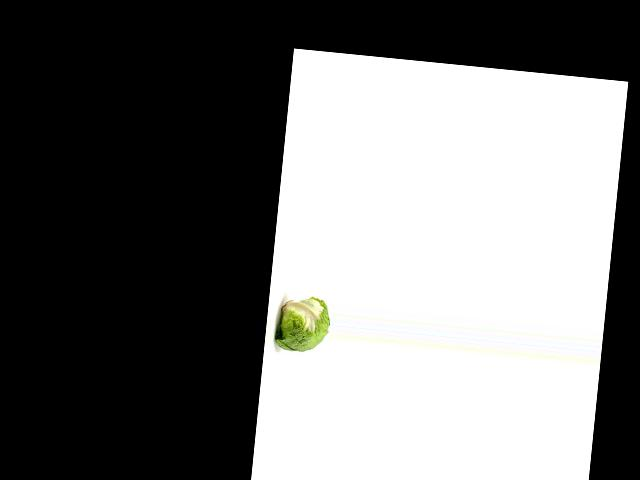lettuce: (271, 292, 332, 355)
